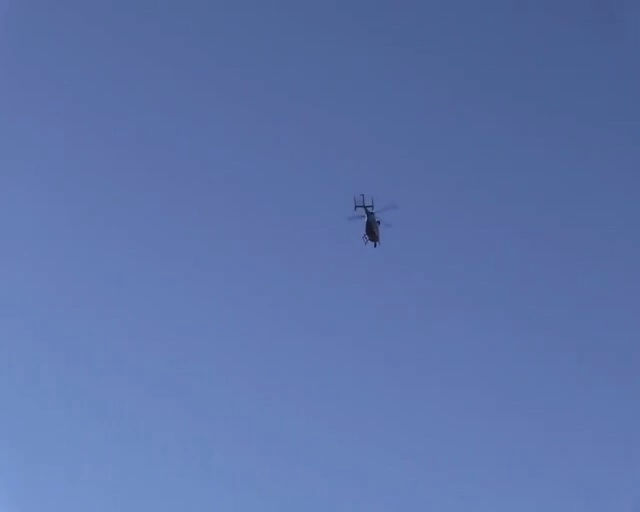HELICOPTER: (347, 192, 399, 248)
